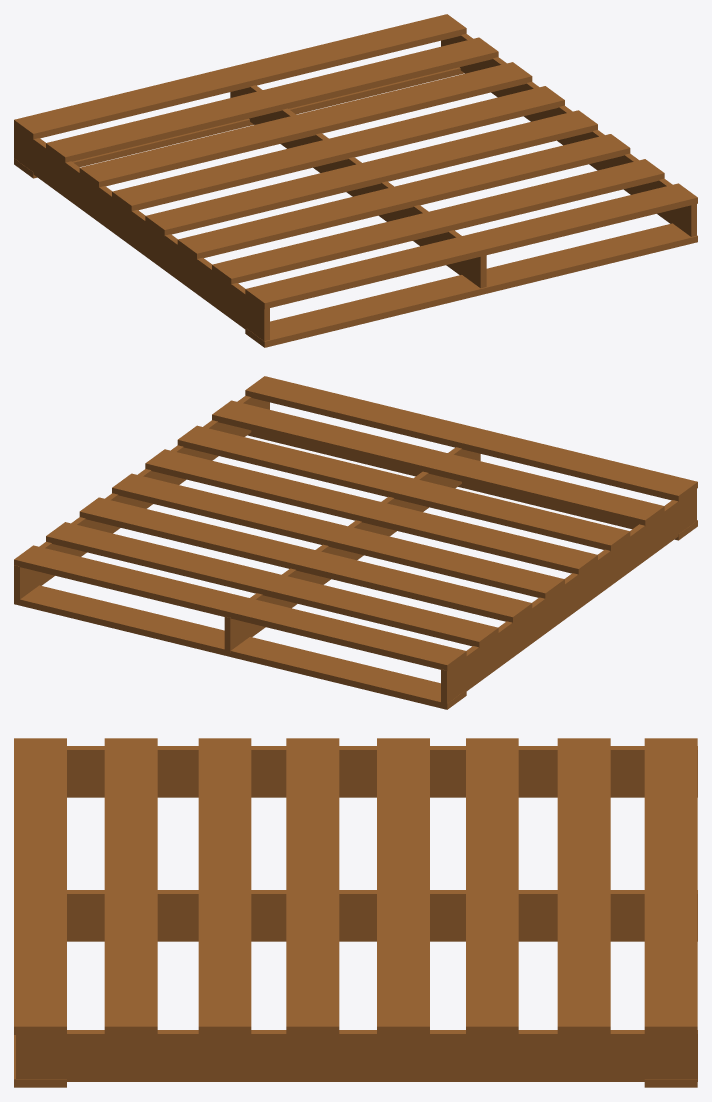
The model's file is WoodPallet.fbx.
The picture shows the model from 3 angles, top to bottom: view 1: azimuth 30°, elevation 25°; view 2: azimuth 150°, elevation 25°; view 3: azimuth 270°, elevation 25°; orthographic projection. The views are drawn at different scales.
Visible parts, largest first — view 1: Cube.010; view 2: Cube.010; view 3: Cube.010.
Part boxes in pixels (bbox=[...]): Cube.010: bbox=[14, 14, 697, 347]; Cube.010: bbox=[14, 376, 697, 709]; Cube.010: bbox=[14, 738, 697, 1087].
Bounding box in the file's own units: 801 × 78.94 × 803.
